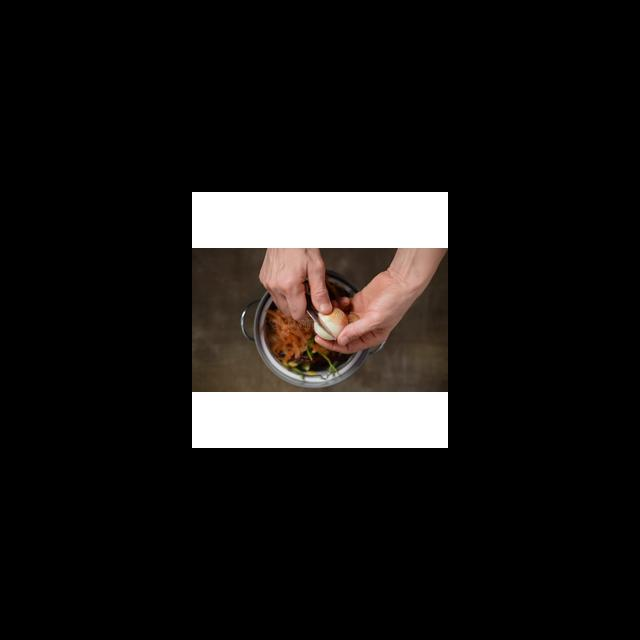food_waste: (269, 324, 307, 357), (324, 311, 345, 330)
